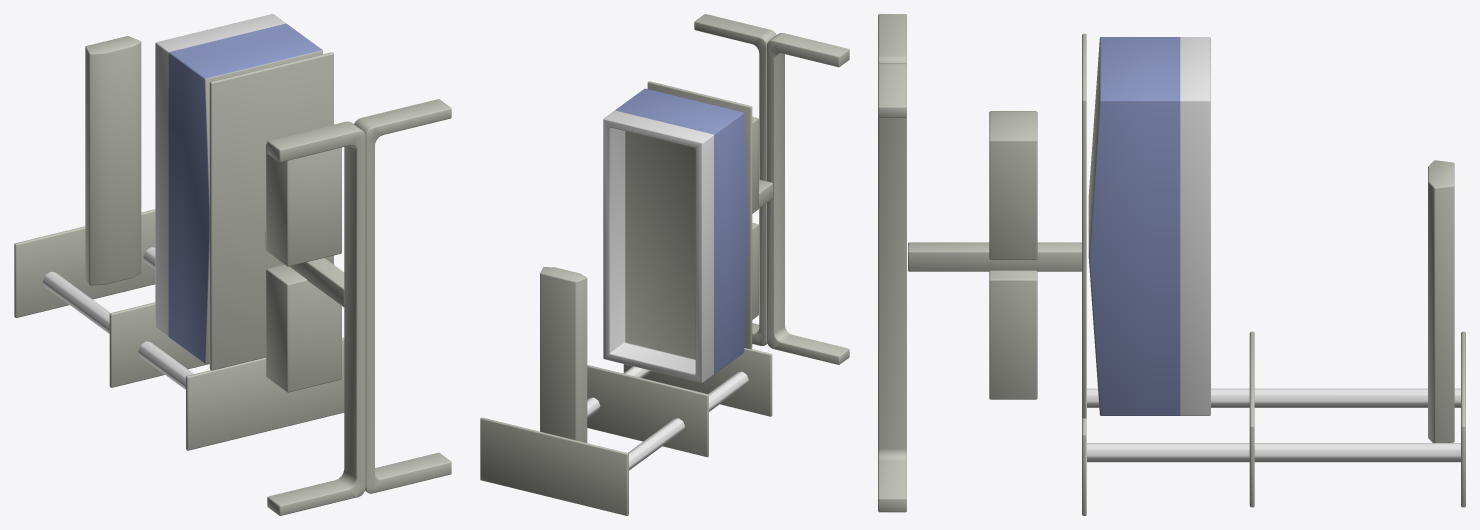
3 renders of one model, left to right at view 1: azimuth 30°, elevation 25°; view 2: azimuth 150°, elevation 25°; view 3: azimuth 270°, elevation 25°, orthographic. The views are drawn at different scales.
Visible parts, largest first — view 1: Cube.008; view 2: Cube.008; view 3: Cube.008.
Part boxes in pixels (<box>): Cube.008: <box>14,14,451,515</box>; Cube.008: <box>480,14,849,515</box>; Cube.008: <box>878,14,1465,515</box>.
Size of the model in its own units: 50.22 by 101 by 131.
